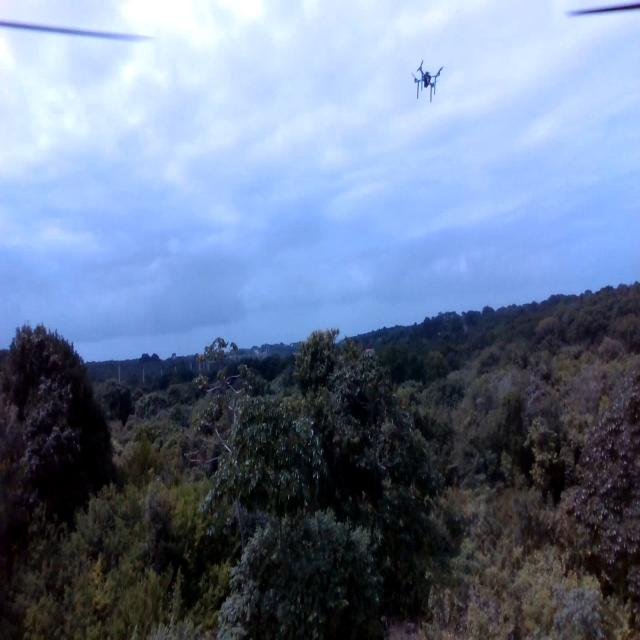-uav-: (400, 44, 450, 115)
